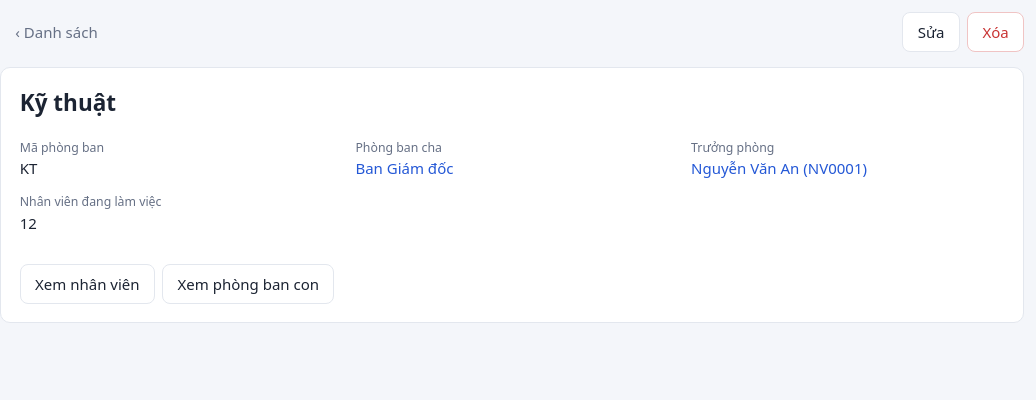
Test case: DepartmentDetailPage › shows why a delete was refused
Click the button "Xóa". click: [996, 32]
box: 967,12 -> 1024,52
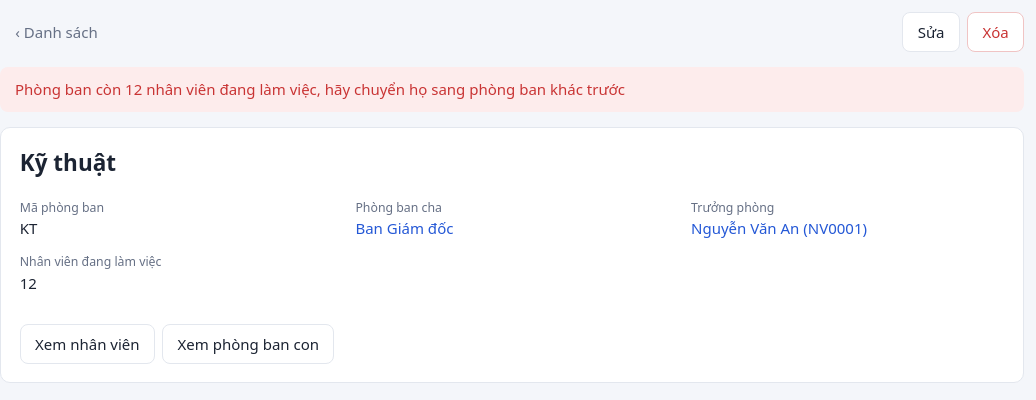
Now the message shows "còn 12 nhân viên đang làm việc", box 15,79 -> 625,99
